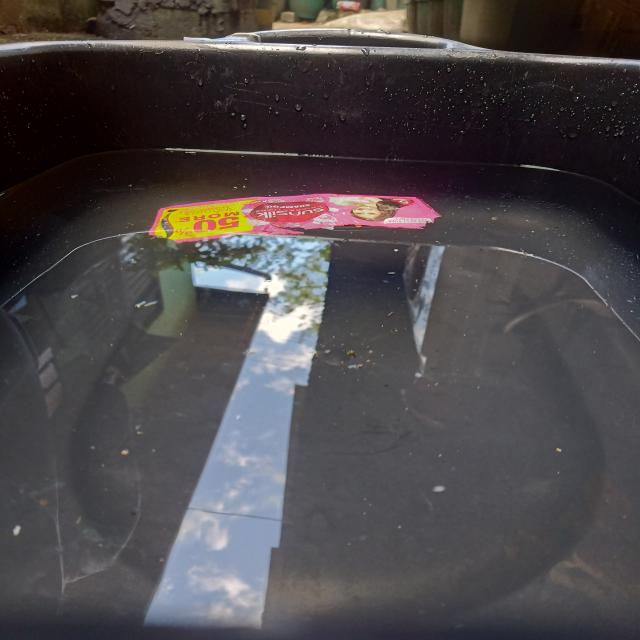Plastic Wrapper: (150, 193, 439, 241)
